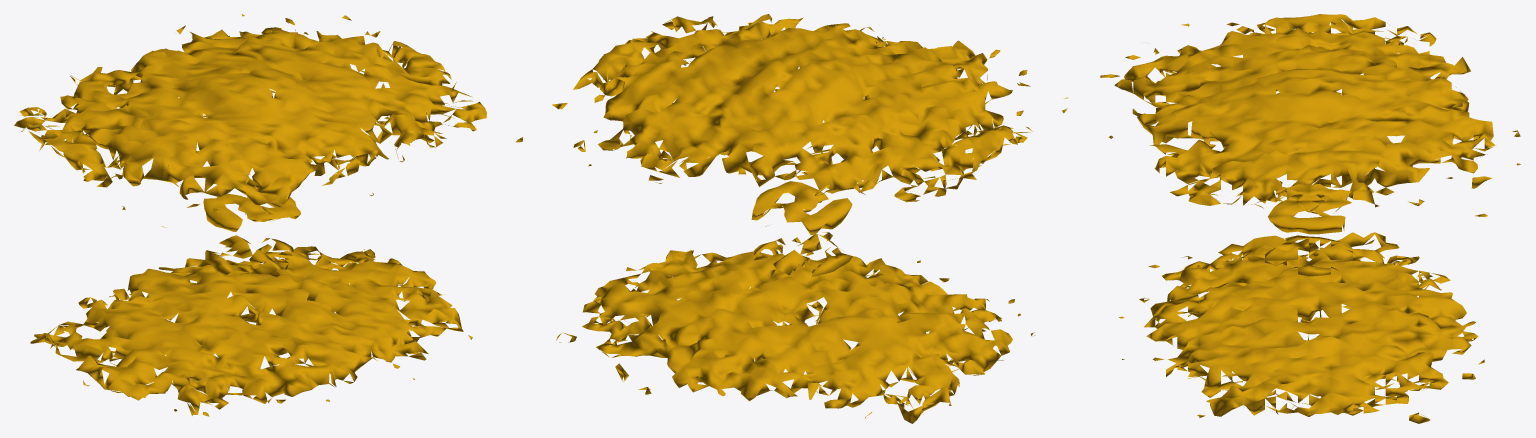
The model's file is pilusmap.glb.
3 views of the same model, side by side, from view 1: azimuth 30°, elevation 25°; view 2: azimuth 150°, elevation 25°; view 3: azimuth 270°, elevation 25° (orthographic). The views are drawn at different scales.
Visible parts, largest first — view 1: vmd_mol3_rep0; view 2: vmd_mol3_rep0; view 3: vmd_mol3_rep0.
Part boxes in pixels (x1,y1,x2,y2): vmd_mol3_rep0: (14,14,486,416); vmd_mol3_rep0: (516,14,1068,423); vmd_mol3_rep0: (1100,14,1520,423).
Bounding box in the file's own units: 2.51 × 1.87 × 2.47.
